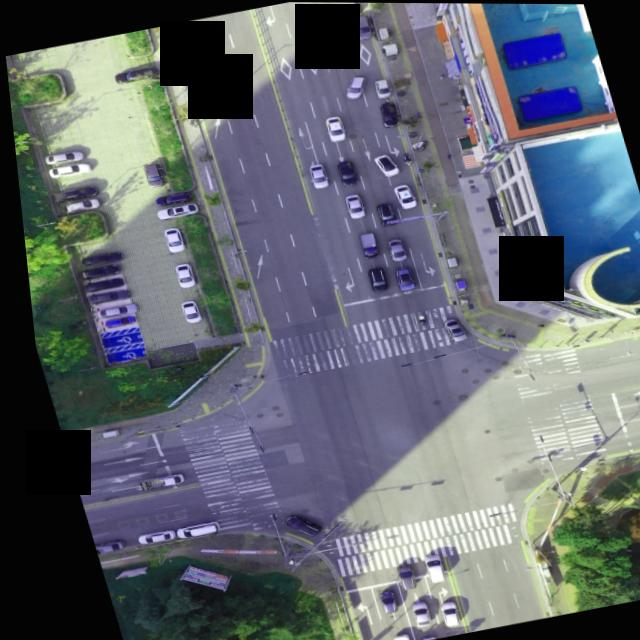car: (408, 554, 432, 583), (379, 561, 403, 590)
small_truck: (126, 472, 174, 491), (349, 230, 374, 262)
